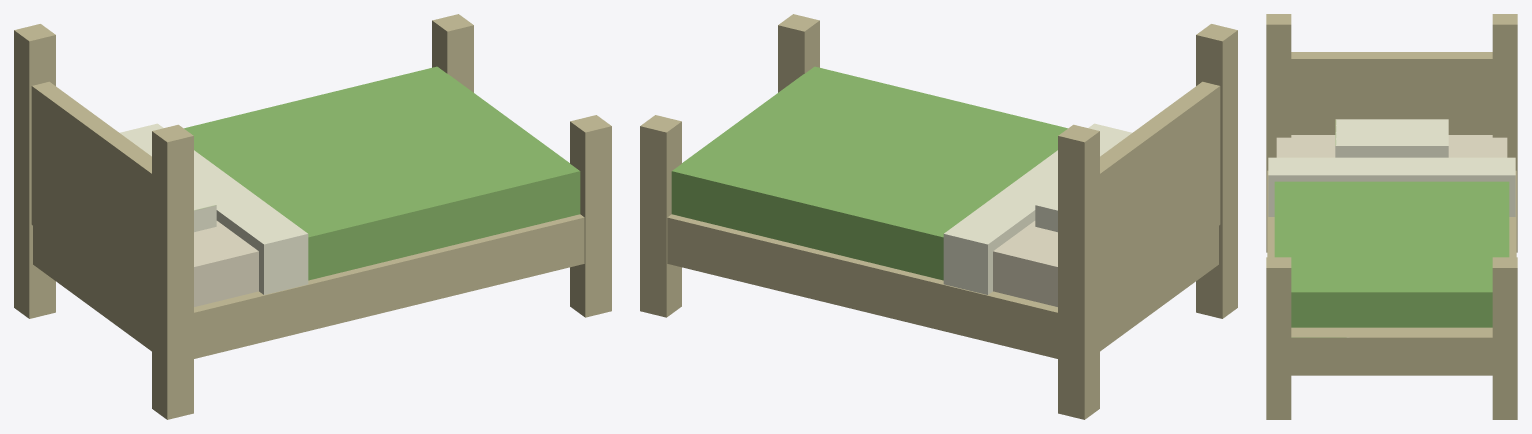
File: bed1_lightgreen.glb
3 views of the same model, side by side, from view 1: azimuth 30°, elevation 25°; view 2: azimuth 150°, elevation 25°; view 3: azimuth 270°, elevation 25° (orthographic). The views are drawn at different scales.
Visible parts, largest first — view 1: Object007; view 2: Object007; view 3: Object007.
Boxes of the visible parts, x1=… form: Object007: x1=14, y1=14, x2=611, y2=419; Object007: x1=640, y1=14, x2=1237, y2=419; Object007: x1=1266, y1=14, x2=1517, y2=419.
Size of the model in its own units: 0.2011 by 0.12 by 0.12.
1 material, 1 textured.
